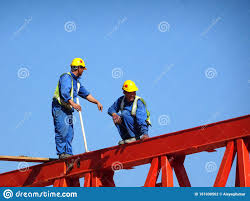helmet: (71, 55, 86, 69), (122, 79, 137, 91)
vest: (114, 99, 149, 124), (54, 73, 75, 109)
